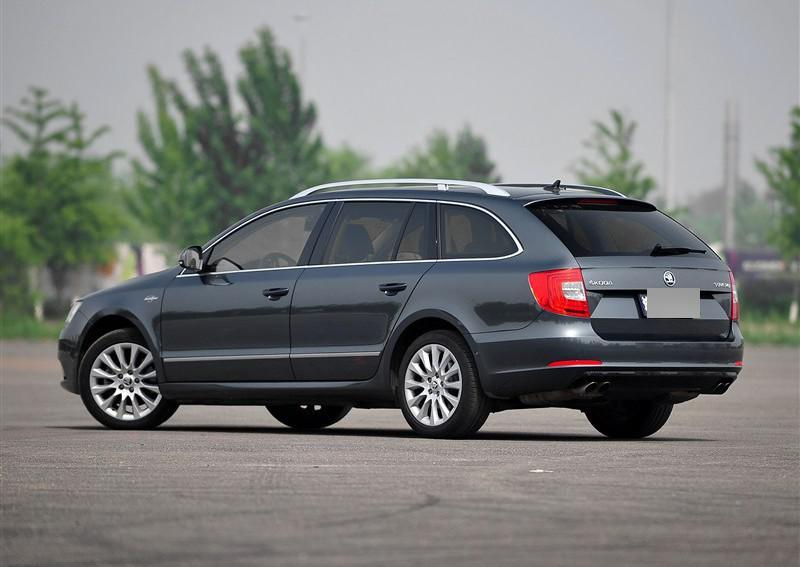Wagon: (55, 175, 743, 438)
